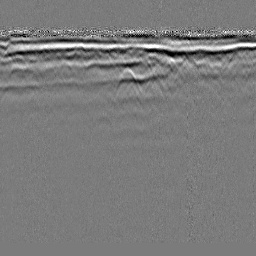cavity: (116, 66, 142, 94)
